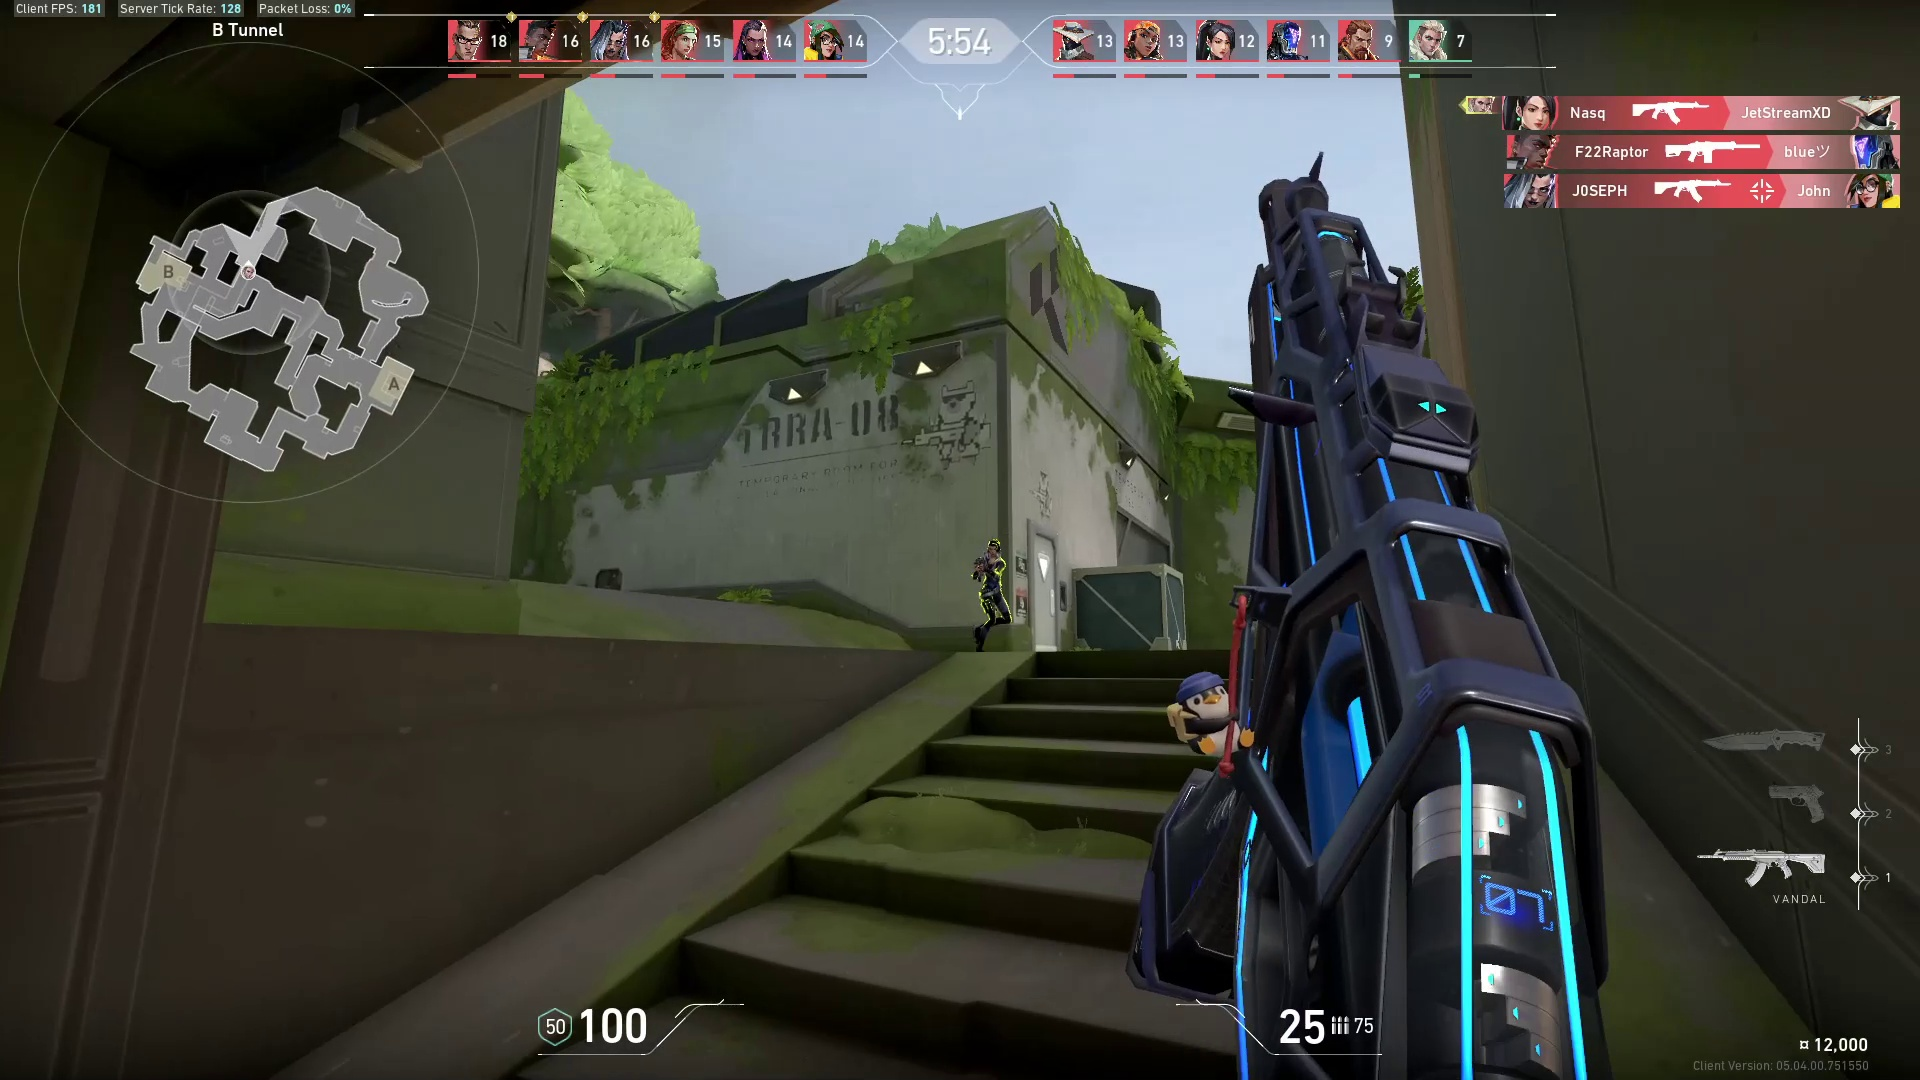enemy_body: (960, 560, 1021, 655)
enemy_head: (982, 535, 1005, 562)
